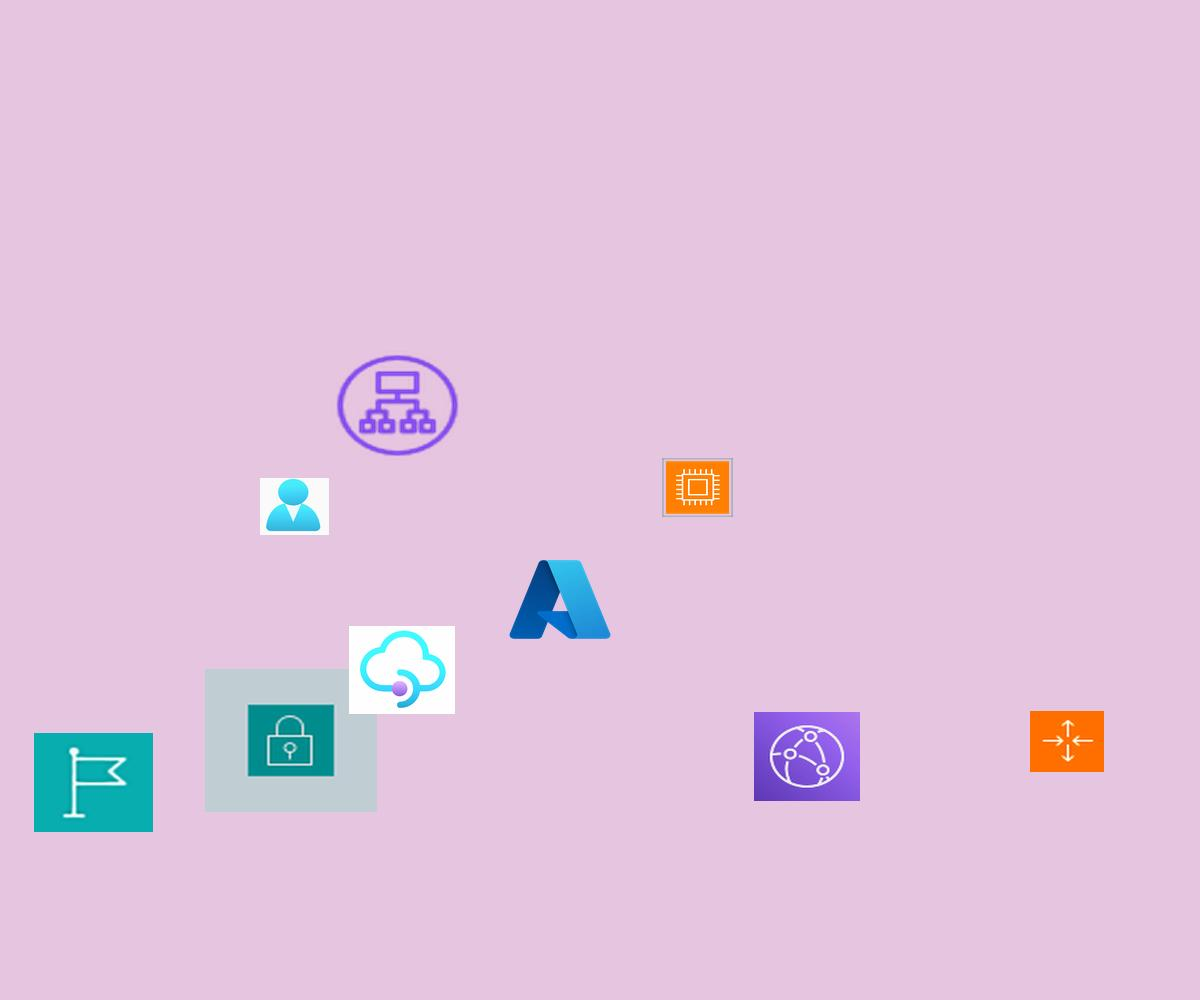AWS-Category_Compute: (662, 458, 733, 517)
AWS-CloudFront: (754, 712, 860, 801)
AWS-Private-subnet: (205, 669, 377, 812)
AWS-Region: (34, 733, 153, 832)
AWS-Res_Elastic-Load-Balancing_Application-Load-Balancer: (332, 351, 463, 460)
AWS-Scaling-group: (1030, 711, 1104, 772)
Azure_api_gateway: (349, 626, 455, 714)
Azure_services: (505, 554, 615, 645)
Azure_users: (260, 478, 329, 535)
